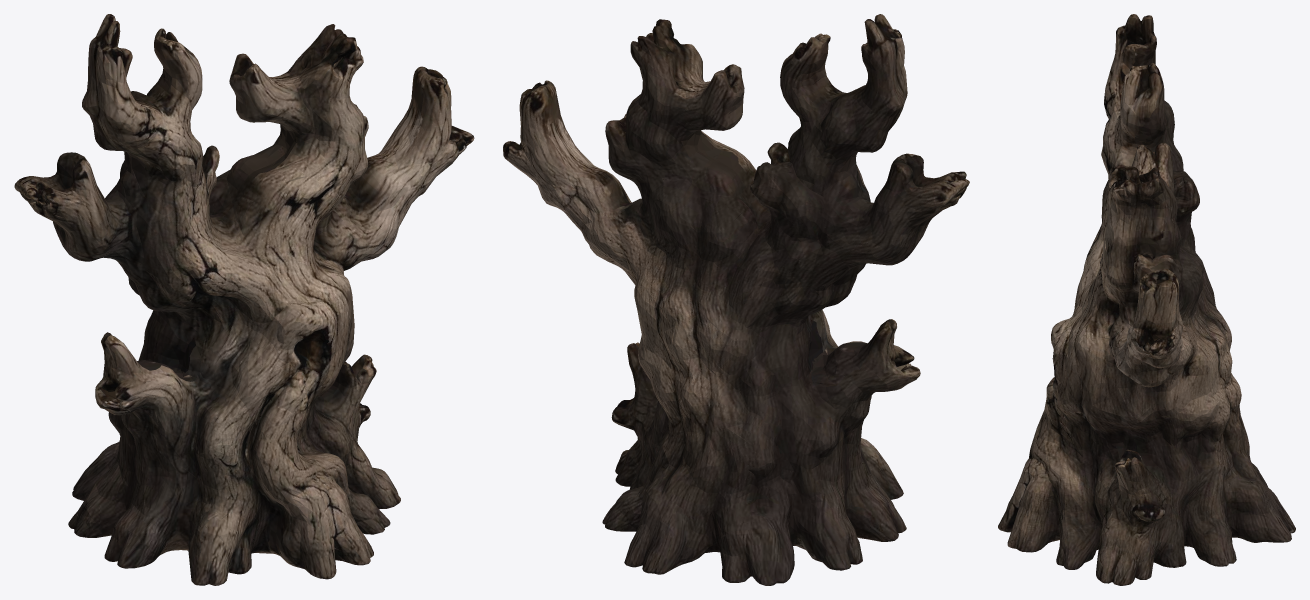
The picture shows the model from 3 angles, left to right: view 1: azimuth 30°, elevation 25°; view 2: azimuth 150°, elevation 25°; view 3: azimuth 270°, elevation 25°; orthographic projection. The views are drawn at different scales.
Visible parts, largest first — view 1: Object_0; view 2: Object_0; view 3: Object_0.
Boxes of the visible parts, x1,y1,x2,y2 form: Object_0: (14, 14, 474, 585); Object_0: (503, 14, 969, 585); Object_0: (998, 14, 1295, 585).
Bounding box in the file's own units: 1.79 × 1.99 × 1.17.
Materials: 1 (1 with a texture image).
